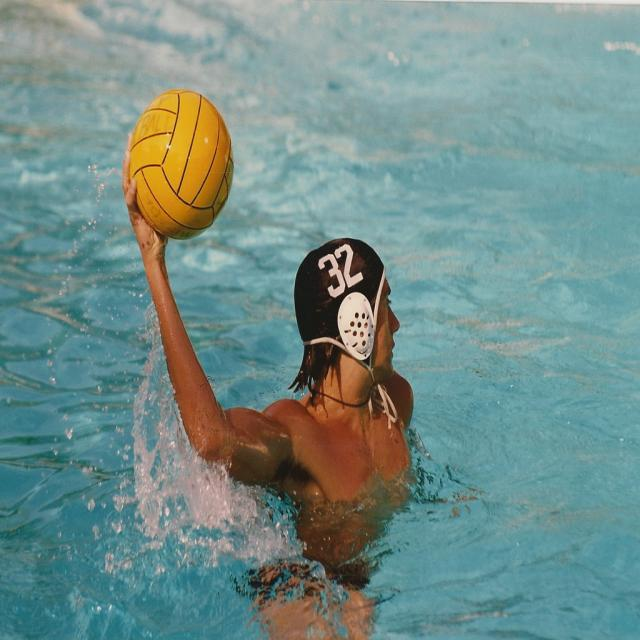Ball: (127, 86, 236, 244)
